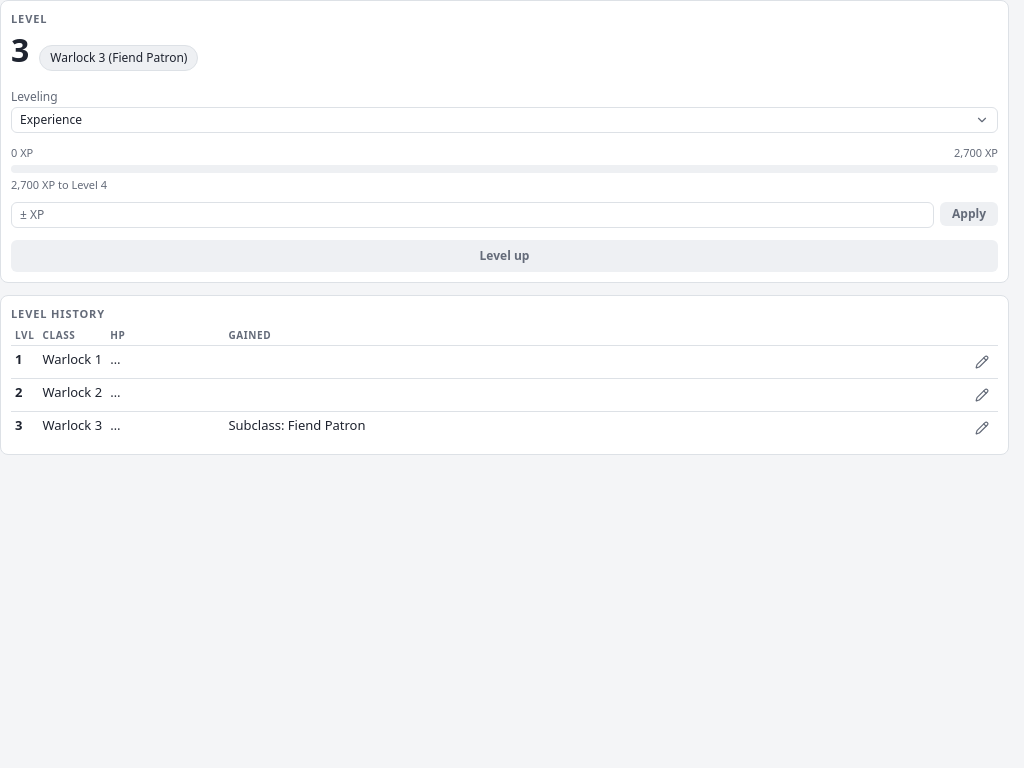
Test case: LevelHistory › changing a level's hit point gain › says the first level takes the die's highest face instead of offering a change
The image size is (1024, 768).
Click the button named "Edit level 1": (982,362) [970,350,994,374]
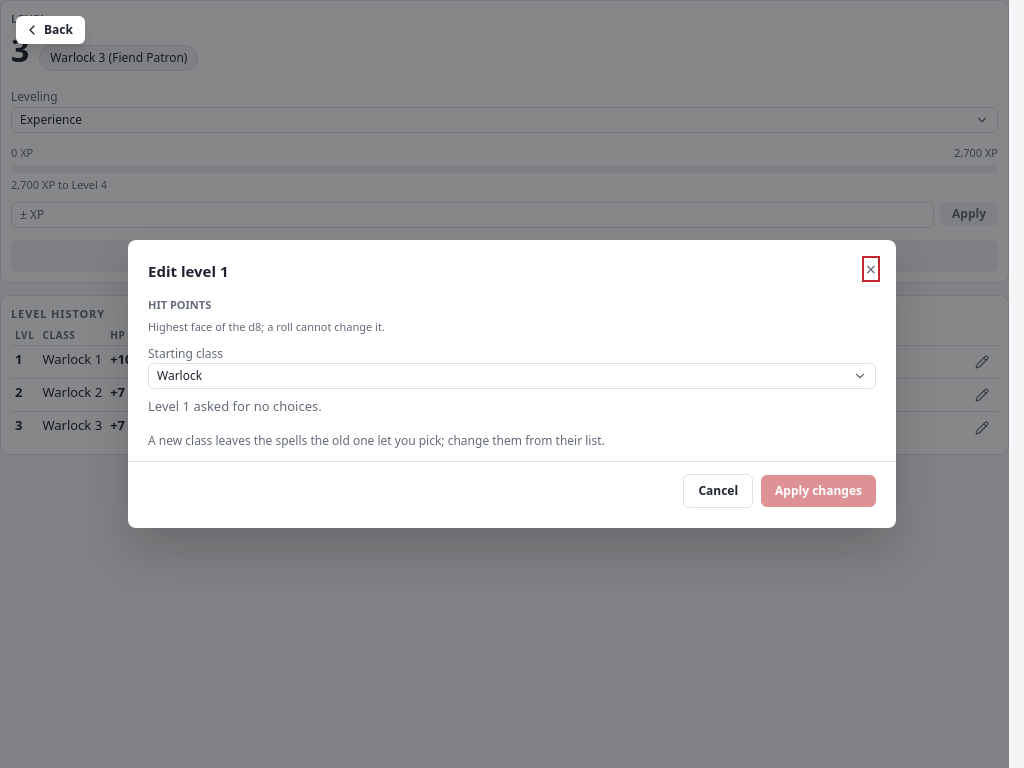
Expected: the text "Highest face of the d8; a roll cannot change it." is shown, [148,319,385,334]
